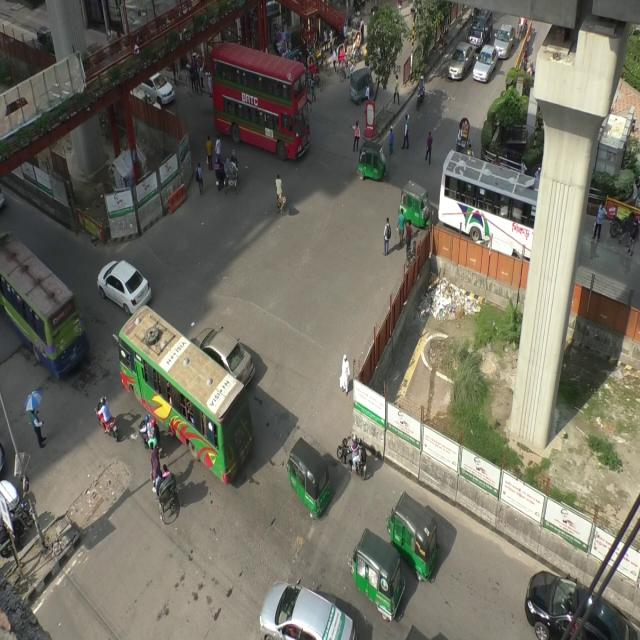Rikshaw-Py4o: (144, 436, 180, 526), (221, 146, 242, 200), (456, 106, 474, 163), (332, 40, 351, 79), (305, 43, 317, 95)
